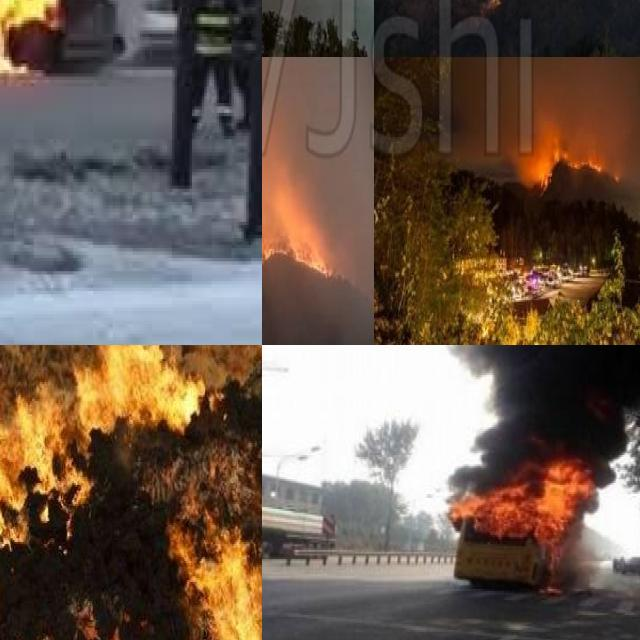fire: (0, 345, 262, 640), (458, 438, 594, 593), (531, 140, 625, 187), (262, 218, 329, 282)
smoke: (429, 345, 640, 487), (262, 66, 355, 212)
